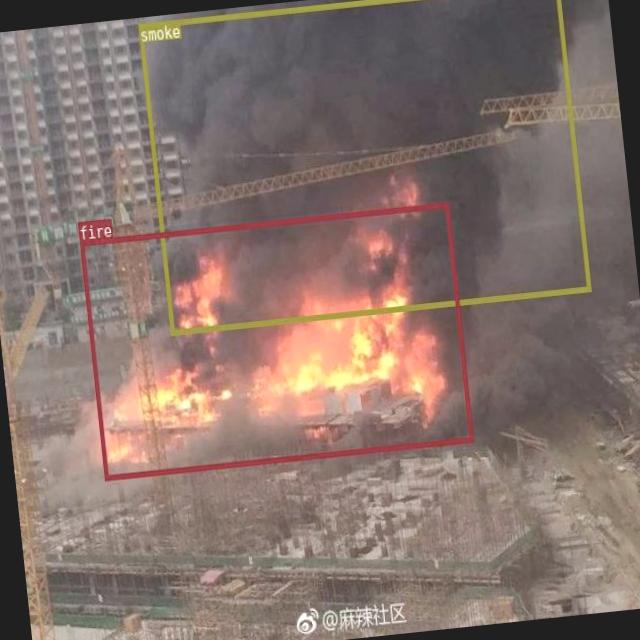fire: (79, 200, 473, 479)
smoke: (136, 0, 589, 334)
